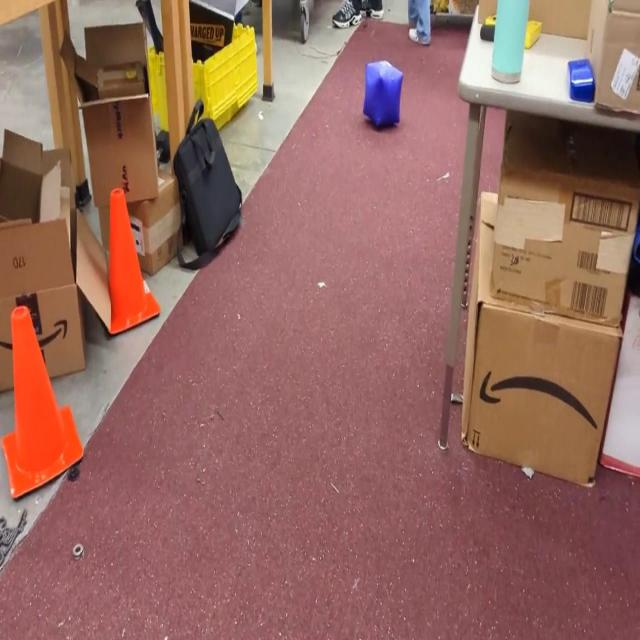frc_cube: (360, 58, 406, 130)
